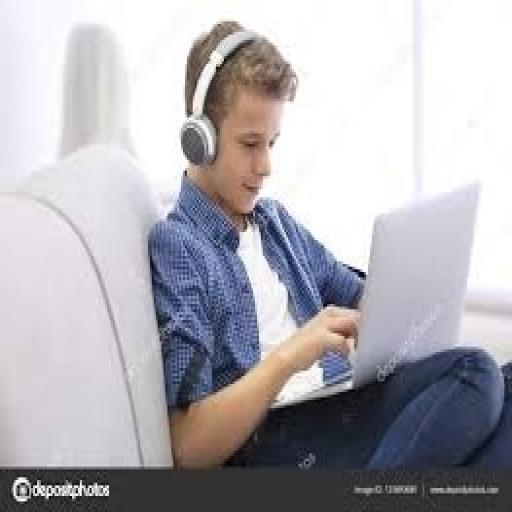listening_to_music: (146, 19, 510, 472)
